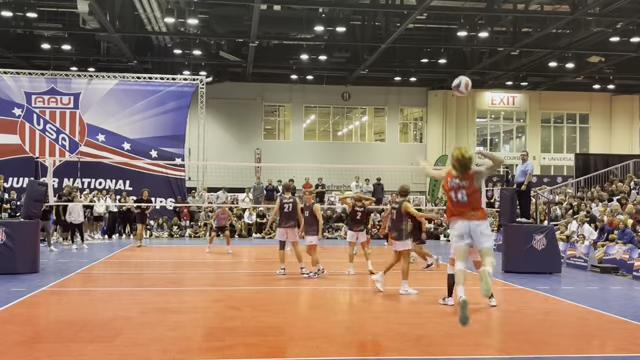Player: (372, 185, 434, 294), (267, 182, 307, 274), (340, 193, 374, 274), (300, 190, 325, 277), (409, 216, 439, 269), (206, 207, 232, 253), (134, 189, 152, 246), (439, 247, 454, 305)
Serve: (411, 148, 513, 326)
ball: (452, 75, 471, 96)
